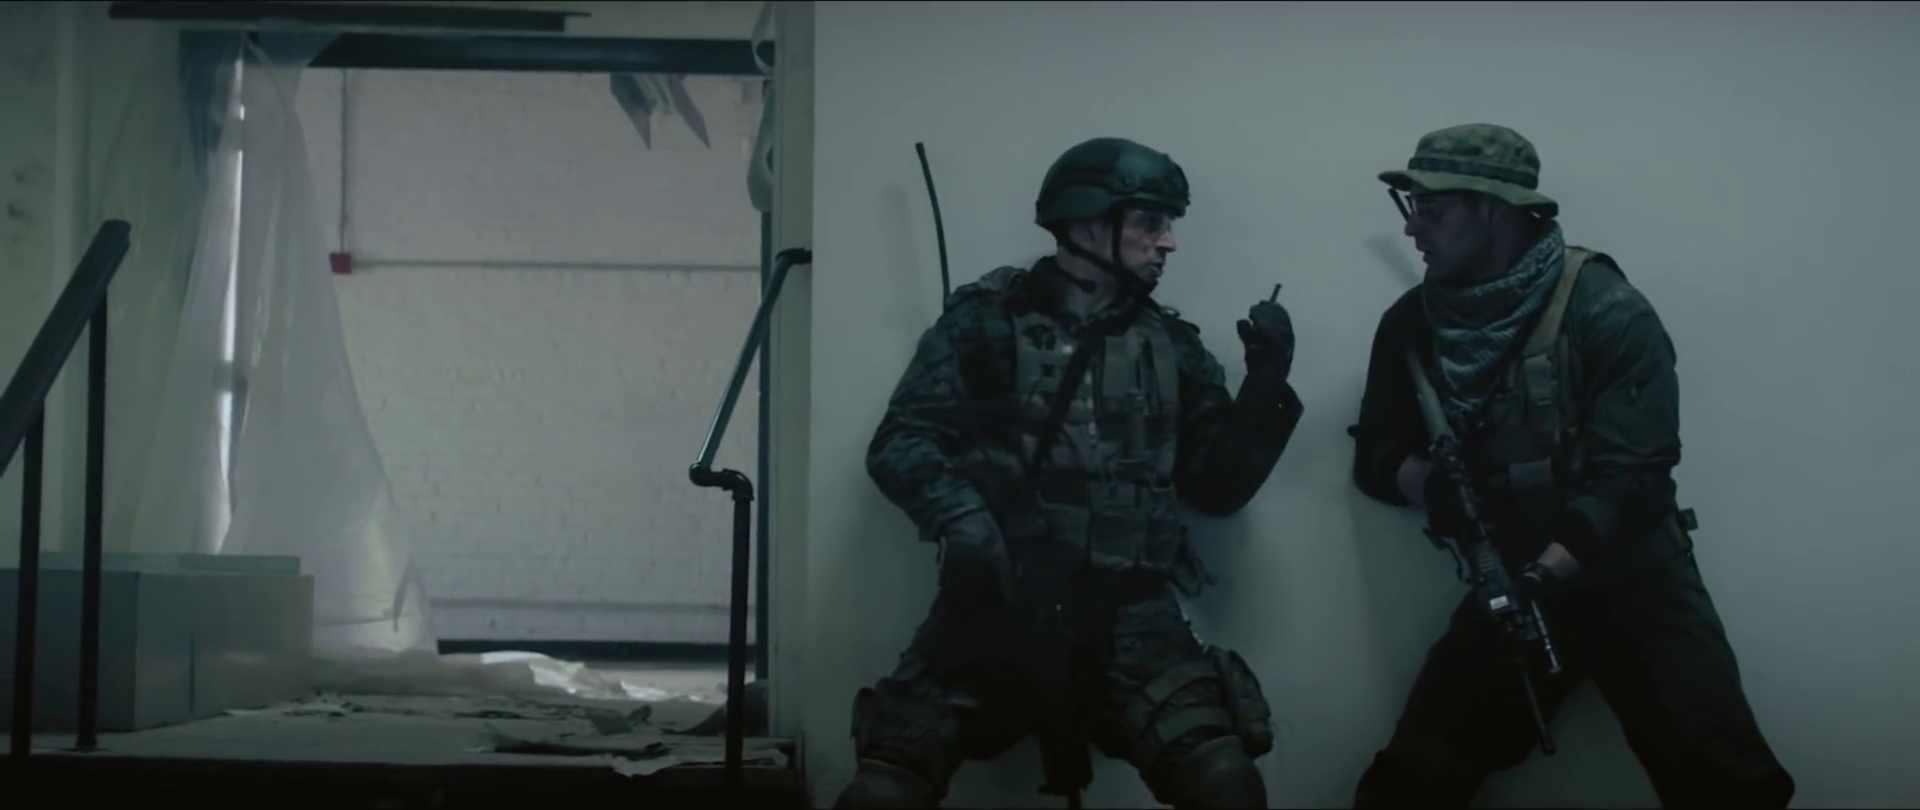gun: (1392, 322, 1571, 762), (931, 431, 1109, 810)
p_w_gun: (830, 131, 1305, 810), (1330, 122, 1795, 810)
